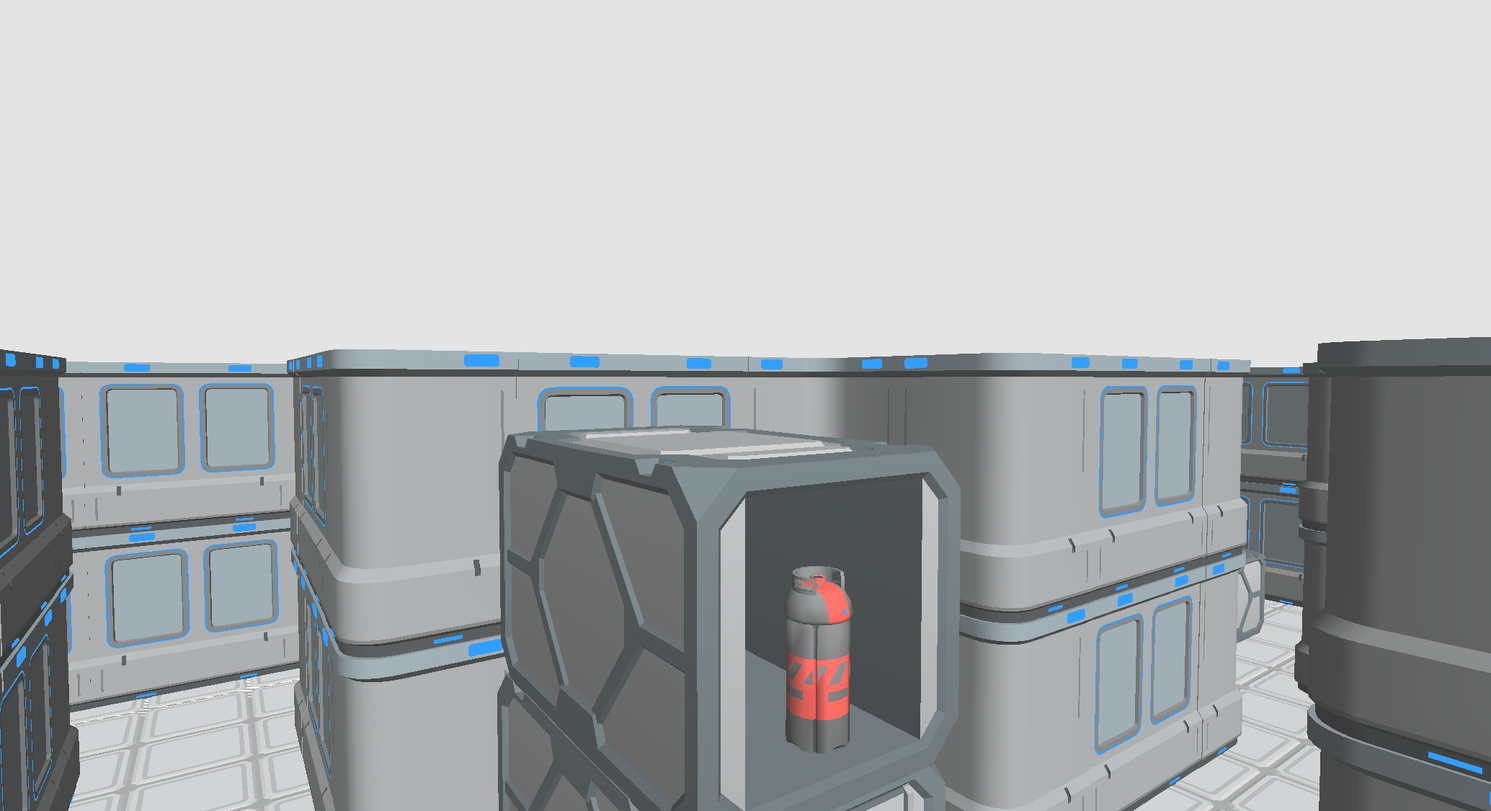red_barrel: (785, 567, 851, 752)
